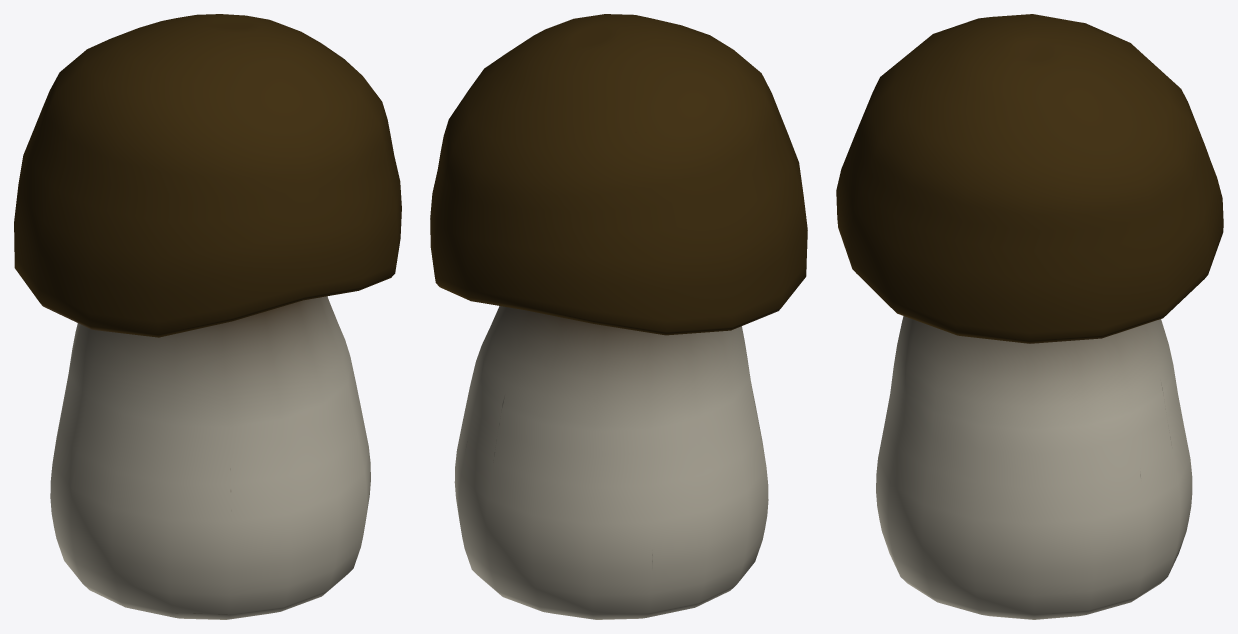
The model's file is Seta Gigante3.fbx.
The picture shows the model from 3 angles, left to right: view 1: azimuth 30°, elevation 25°; view 2: azimuth 150°, elevation 25°; view 3: azimuth 270°, elevation 25°; orthographic projection. The views are drawn at different scales.
Parts seen in each view (by area): view 1: Seta pequeña1; view 2: Seta pequeña1; view 3: Seta pequeña1.
Boxes of the visible parts, x1=… form: Seta pequeña1: x1=14, y1=14, x2=401, y2=619; Seta pequeña1: x1=430, y1=14, x2=807, y2=619; Seta pequeña1: x1=836, y1=14, x2=1223, y2=619.
Size of the model in its own units: 148 by 231 by 150.
